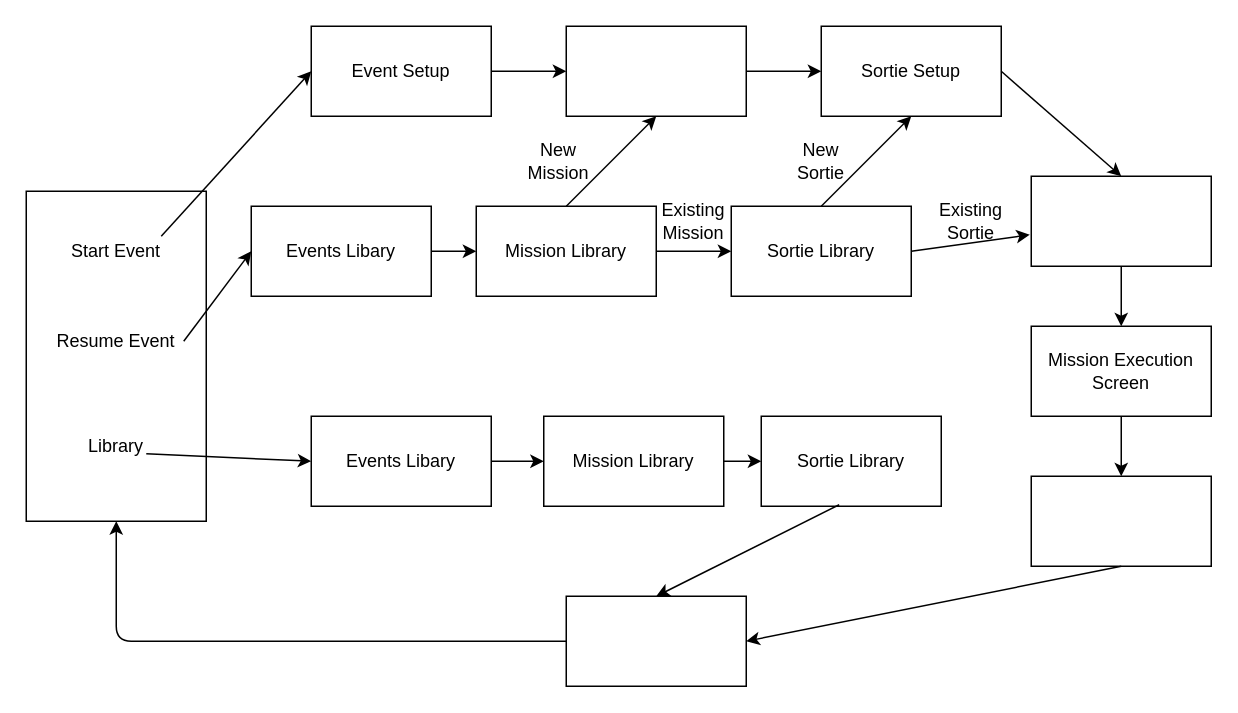
This 1238x713 diagram has some shape labels left out. Each missing label, with the box of its shape:
Mission Setup: (565, 25, 746, 116)
Post Mission Screen: (1030, 475, 1211, 566)
Pre Mission Screen: (1030, 175, 1211, 266)
Summary: (565, 595, 746, 686)
